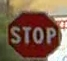stop: (6, 10, 61, 58)
